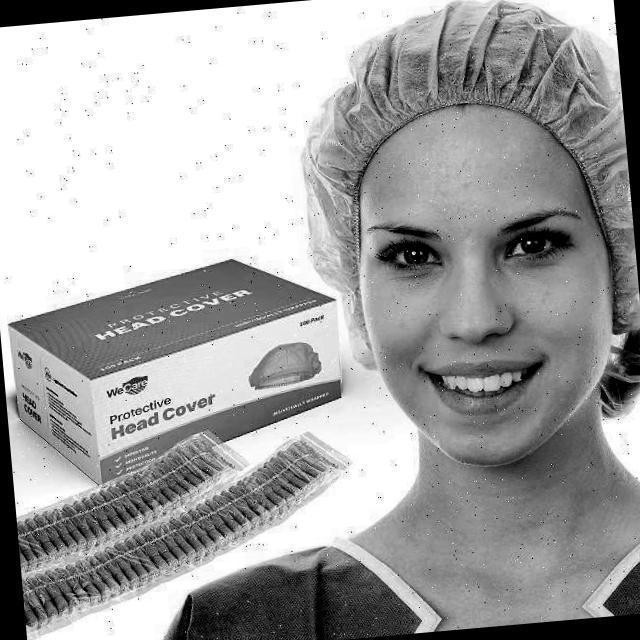gloves: (311, 0, 632, 188)
no_hairnet: (404, 308, 566, 424)
